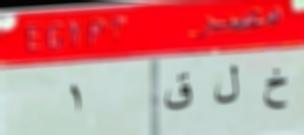1: (67, 79, 87, 117)
khaa: (258, 63, 289, 118)
laam: (211, 63, 242, 110)
qaaf: (158, 68, 198, 112)
